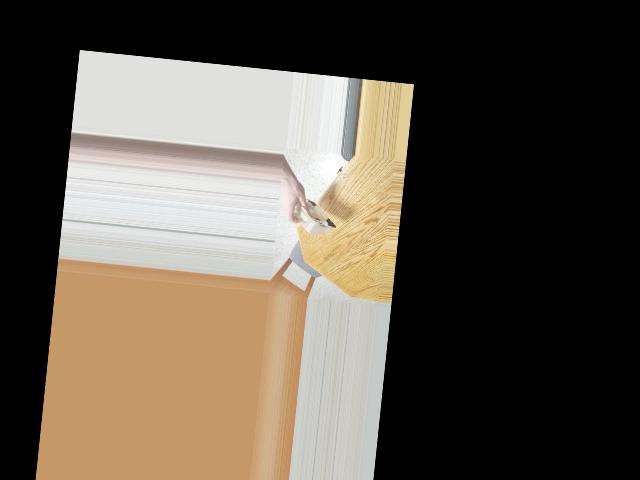cheese: (289, 191, 333, 245)
